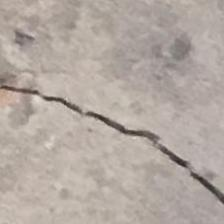Crack: (0, 77, 224, 212)
